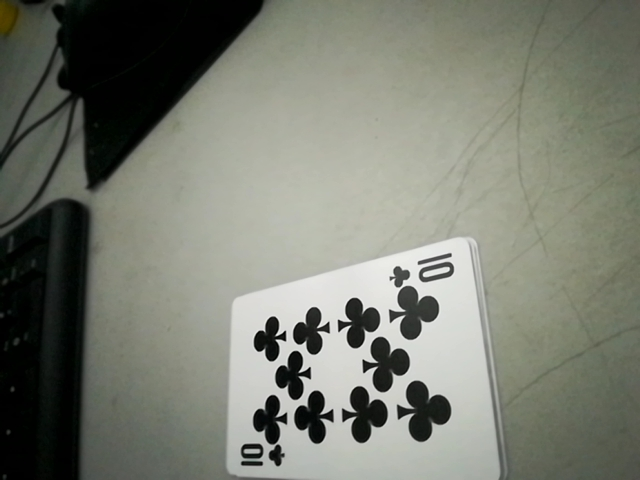mh 10: (388, 249, 466, 292), (233, 440, 288, 472)
